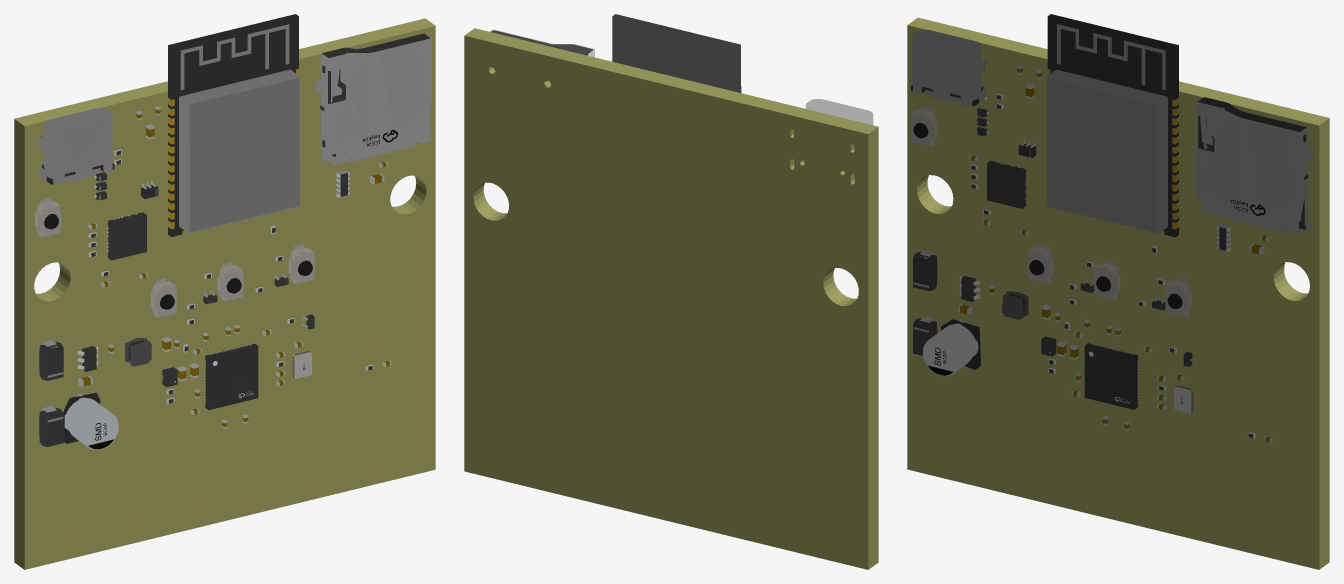
File: OBJ_PINTY-FUJI CARD PCB v1.1.obj
The picture shows the model from 3 angles, left to right: view 1: azimuth 30°, elevation 25°; view 2: azimuth 150°, elevation 25°; view 3: azimuth 330°, elevation 25°; orthographic projection.
Bounding box in the file's own units: 228 × 259 × 30.87.
